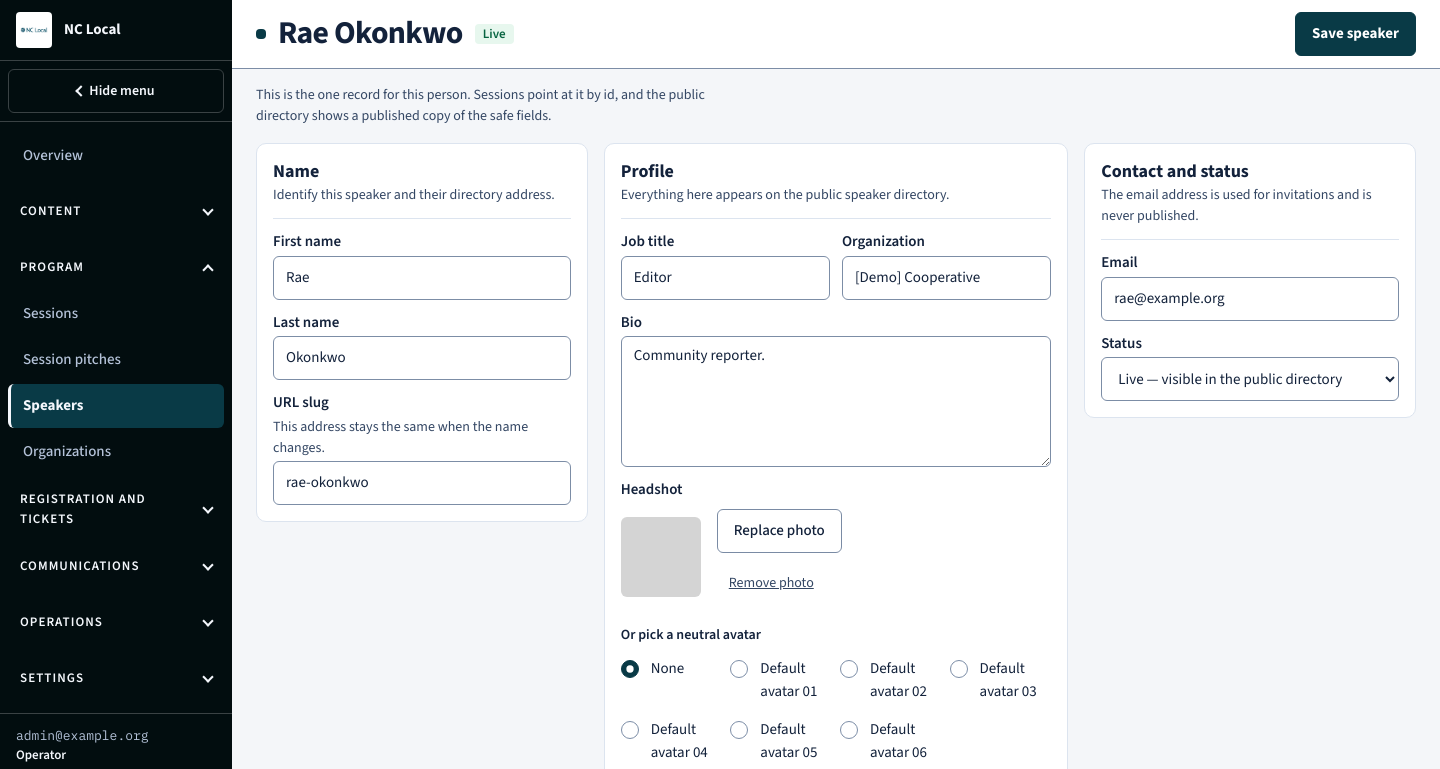
Test: speaker editor › shows a server rejection verbatim, field by field
Click the button "Save speaker" at point(1356, 34), box [1295, 12, 1416, 56]
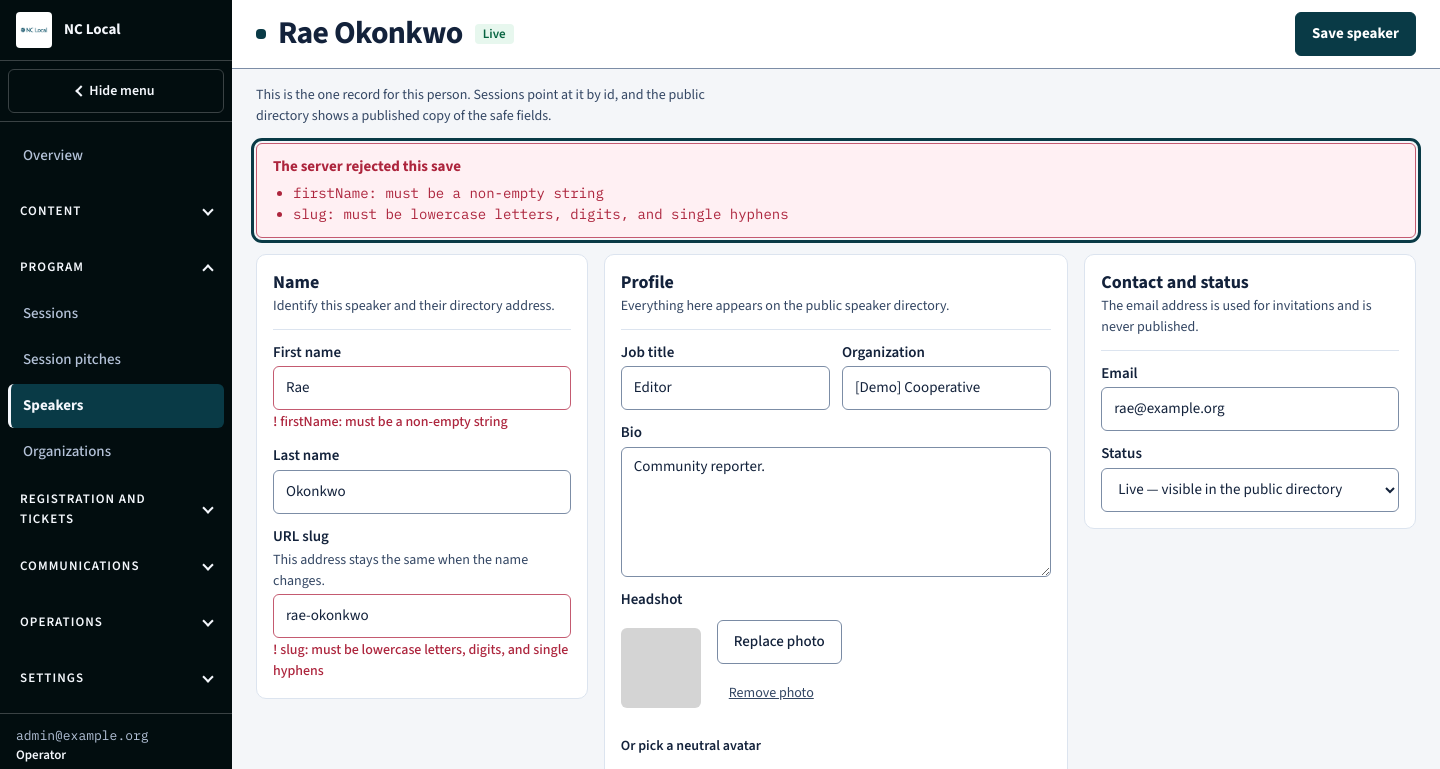
Now the list item "firstName: must be a non-empty string" is shown, box [293, 184, 604, 202]
Now the list item "slug: must be lowercase letters, digits, and single hyphens" is shown, box [293, 204, 789, 222]
